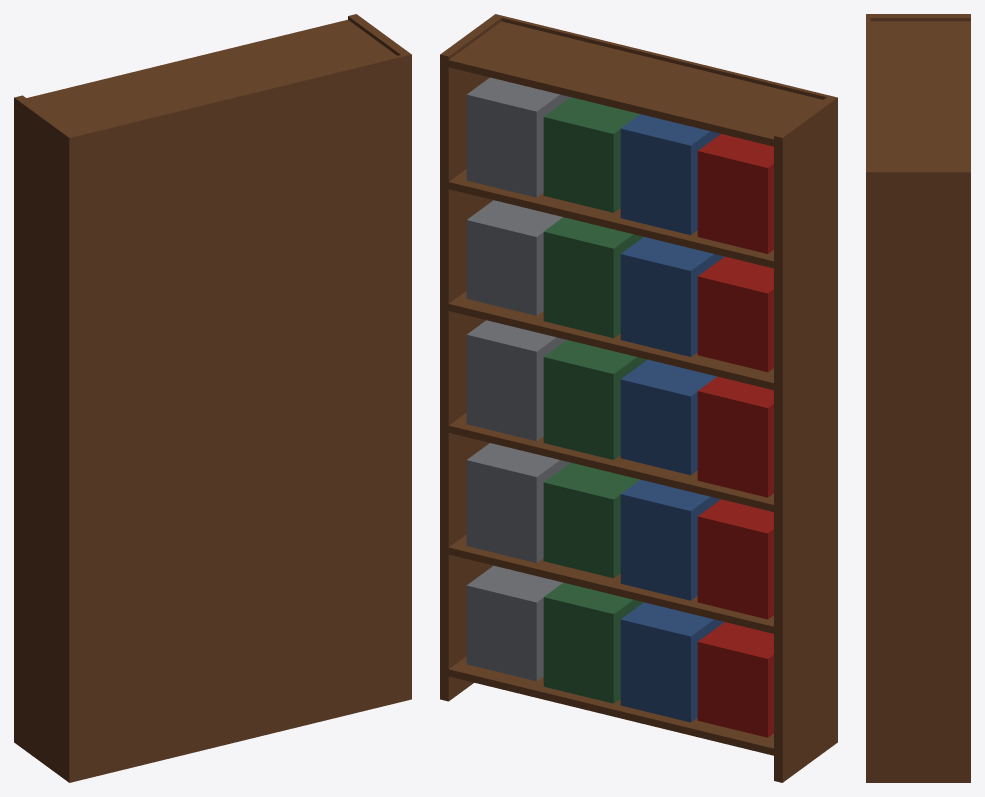
The model's file is school.library.shelf_wall.glb.
The picture shows the model from 3 angles, left to right: view 1: azimuth 30°, elevation 25°; view 2: azimuth 150°, elevation 25°; view 3: azimuth 270°, elevation 25°; orthographic projection. The views are drawn at different scales.
Visible parts, largest first — view 1: main__hardwood; view 2: main__hardwood, main__fabric_blue, main__fabric_grey, main__fabric_green, main__fabric_red; view 3: main__hardwood.
Boxes of the visible parts, x1,y1,x2,y2 form: main__hardwood: (14, 14, 411, 782); main__hardwood: (440, 14, 837, 782); main__fabric_blue: (620, 114, 724, 722); main__fabric_grey: (466, 77, 570, 681); main__fabric_green: (543, 97, 647, 703); main__fabric_red: (697, 134, 773, 737); main__hardwood: (866, 14, 970, 782).
Bounding box in the file's own units: 1 × 1.8 × 0.28.
